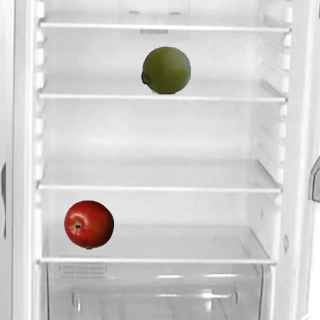Apple Braeburn: (63, 199, 113, 249)
Grape White 4: (140, 44, 190, 94)
